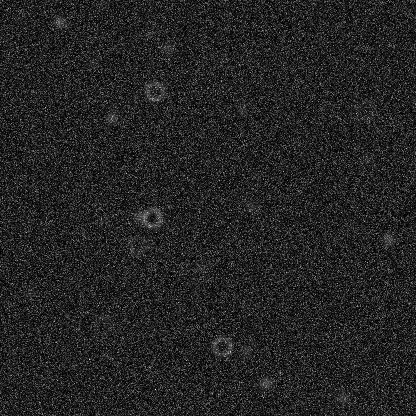Ring: (126, 233, 150, 257), (142, 79, 166, 103), (91, 313, 115, 337), (352, 98, 376, 122), (209, 334, 233, 358), (140, 205, 164, 229)
Spot: (140, 26, 156, 42), (257, 374, 273, 390), (93, 212, 109, 228), (194, 260, 210, 276), (51, 13, 67, 29), (84, 54, 100, 70), (243, 198, 259, 214), (380, 231, 396, 247), (237, 342, 253, 358), (236, 297, 252, 313), (233, 101, 249, 117), (130, 208, 146, 224), (212, 50, 228, 66), (215, 80, 231, 96), (334, 390, 350, 406), (104, 109, 120, 125), (358, 150, 374, 166), (21, 282, 37, 298), (159, 39, 175, 55)
